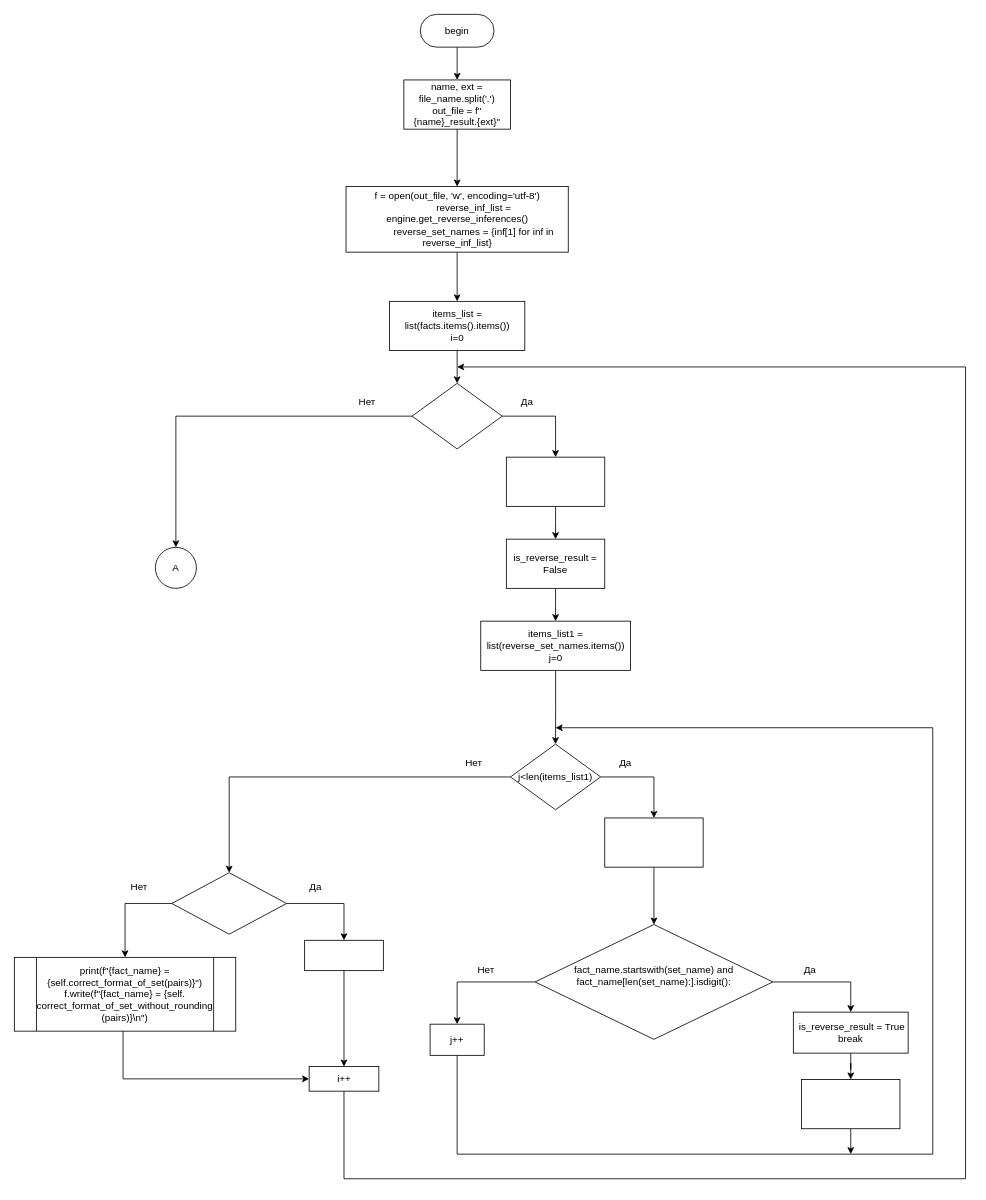
This 986x1200 diagram has some shape labels left out. The shapes that lost their labels are listed below. From the top down, each one's centre as x and y in pixels, then its label:
At (x=456, y=416): "i<len(items_list)".
At (x=555, y=481): "fact_name, pairs = items_list[i]".
At (x=653, y=842): "set_name = items_list1[j]".
At (x=229, y=903): "is_reverse_result".
At (x=343, y=955): "continue".
At (x=850, y=1104): "j=len(item_list1)".
